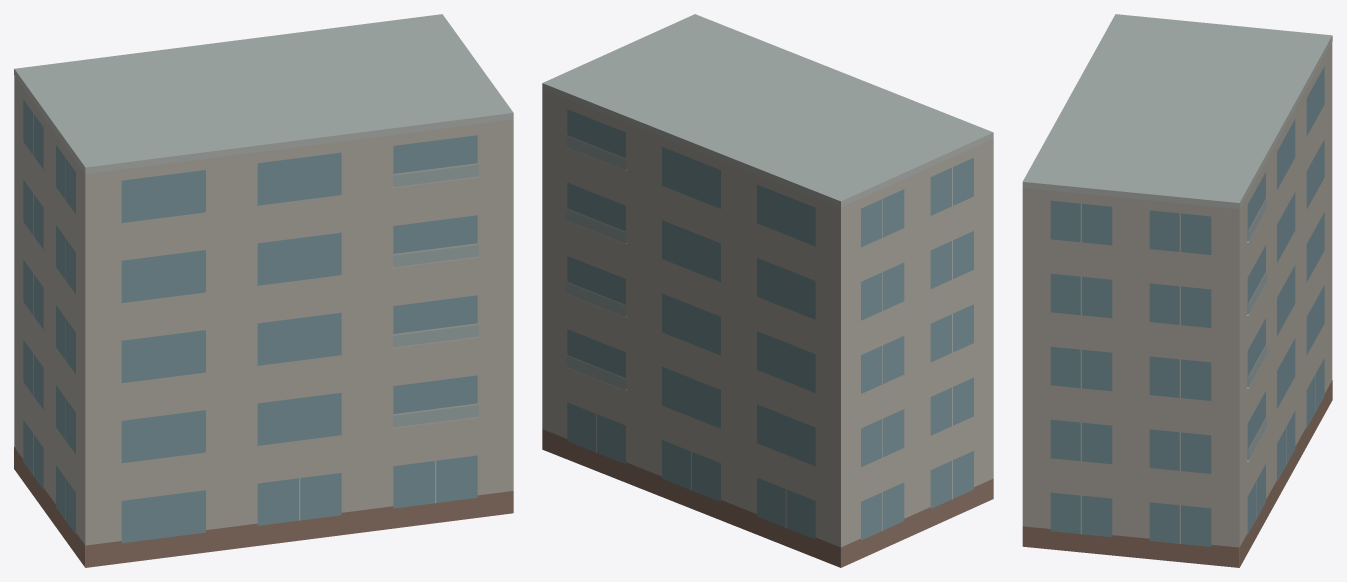
The model's file is survey-upis-32952489.glb.
The picture shows the model from 3 angles, left to right: view 1: azimuth 30°, elevation 25°; view 2: azimuth 150°, elevation 25°; view 3: azimuth 270°, elevation 25°; orthographic projection. The views are drawn at different scales.
Visible parts, largest first — view 1: survey-upis-32952489.tmp; view 2: survey-upis-32952489.tmp; view 3: survey-upis-32952489.tmp.
Boxes of the visible parts, x1,y1,x2,y2 form: survey-upis-32952489.tmp: (14, 14, 513, 567); survey-upis-32952489.tmp: (542, 14, 993, 567); survey-upis-32952489.tmp: (1022, 14, 1332, 567).
Size of the model in its own units: 16.12 by 14.5 by 11.17.
